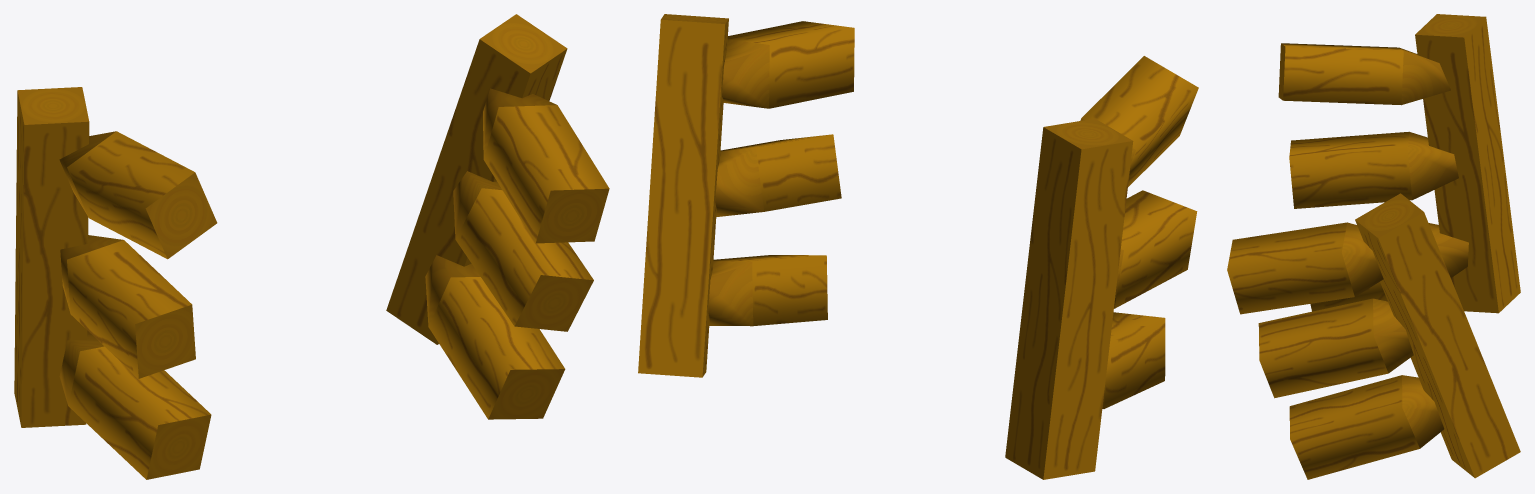
Rendered from Hurdle Broken.fbx.
3 renders of one model, left to right at view 1: azimuth 30°, elevation 25°; view 2: azimuth 150°, elevation 25°; view 3: azimuth 270°, elevation 25°, orthographic. The views are drawn at different scales.
Parts seen in each view (by area): view 1: Post_R, Post_L, polySurface2, polySurface6, polySurface5, polySurface3, polySurface4, polySurface1; view 2: Post_R, Post_L, polySurface2, polySurface4, polySurface6, polySurface1, polySurface3, polySurface5; view 3: Post_R, Post_L, polySurface4, polySurface6, polySurface2, polySurface3, polySurface1, polySurface5.
Boxes of the visible parts, x1,y1,x2,y2 form: Post_R: (14, 87, 89, 427); Post_L: (386, 14, 567, 344); polySurface2: (483, 88, 609, 243); polySurface6: (425, 255, 565, 419); polySurface5: (59, 330, 211, 479); polySurface3: (60, 235, 195, 378); polySurface4: (453, 171, 593, 331); polySurface1: (59, 131, 217, 259); Post_R: (1005, 118, 1133, 479); Post_L: (638, 14, 728, 377); polySurface2: (722, 21, 854, 108); polySurface4: (715, 134, 841, 216); polySurface6: (708, 255, 827, 326); polySurface1: (1080, 56, 1198, 186); polySurface3: (1114, 190, 1197, 308); polySurface5: (1102, 312, 1165, 408); Post_R: (1415, 14, 1520, 313); Post_L: (1355, 193, 1520, 478); polySurface4: (1258, 298, 1413, 398); polySurface6: (1289, 375, 1444, 479); polySurface2: (1227, 222, 1383, 314); polySurface3: (1289, 131, 1458, 208); polySurface1: (1278, 43, 1450, 105); polySurface5: (1310, 223, 1468, 311).
Size of the model in its own units: 360 by 238 by 216.
Materials: 1 (1 with a texture image).
